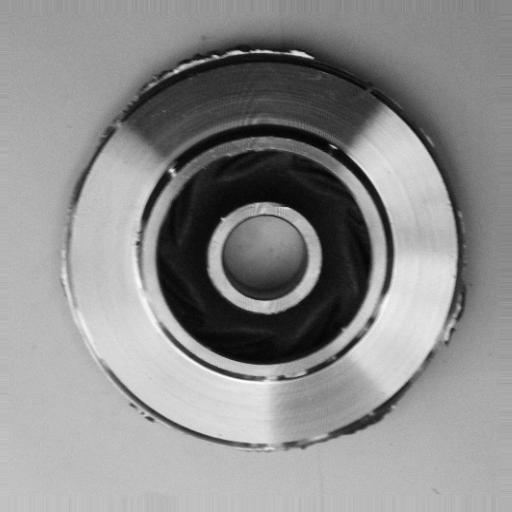casting_with_burr: (57, 42, 469, 451)
scratch: (125, 227, 167, 338), (365, 272, 396, 333), (252, 363, 316, 390), (158, 152, 196, 195)
